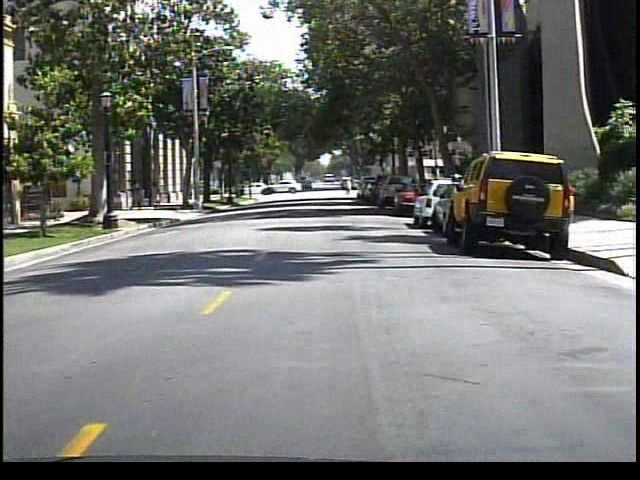person: (147, 178, 167, 211), (130, 176, 149, 210), (344, 174, 358, 196)
